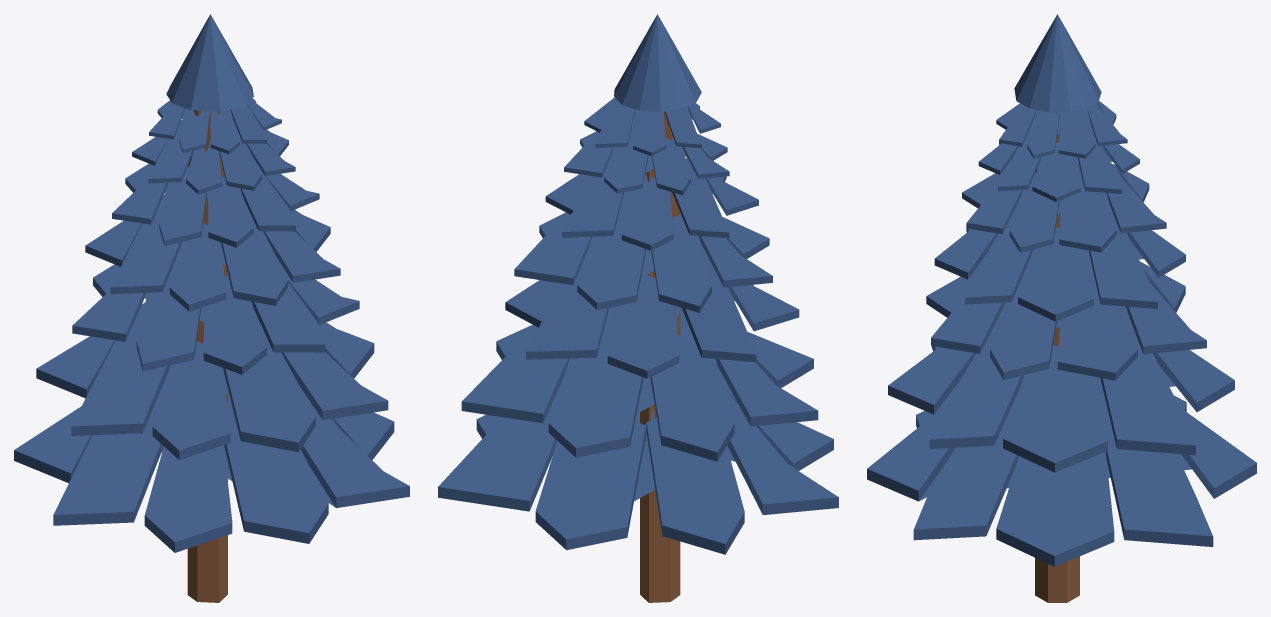
Rendered from Tree_7.fbx.
3 views of the same model, side by side, from view 1: azimuth 30°, elevation 25°; view 2: azimuth 150°, elevation 25°; view 3: azimuth 270°, elevation 25° (orthographic).
Visible parts, largest first — view 1: Tree_7_LOD0; view 2: Tree_7_LOD0; view 3: Tree_7_LOD0.
Part boxes in pixels (left/top/right/bottom): Tree_7_LOD0: left=14, top=14, right=409, bottom=602; Tree_7_LOD0: left=438, top=14, right=838, bottom=602; Tree_7_LOD0: left=867, top=14, right=1256, bottom=602.
Size of what is drawn, in the model's own units: 147 by 231 by 140.
